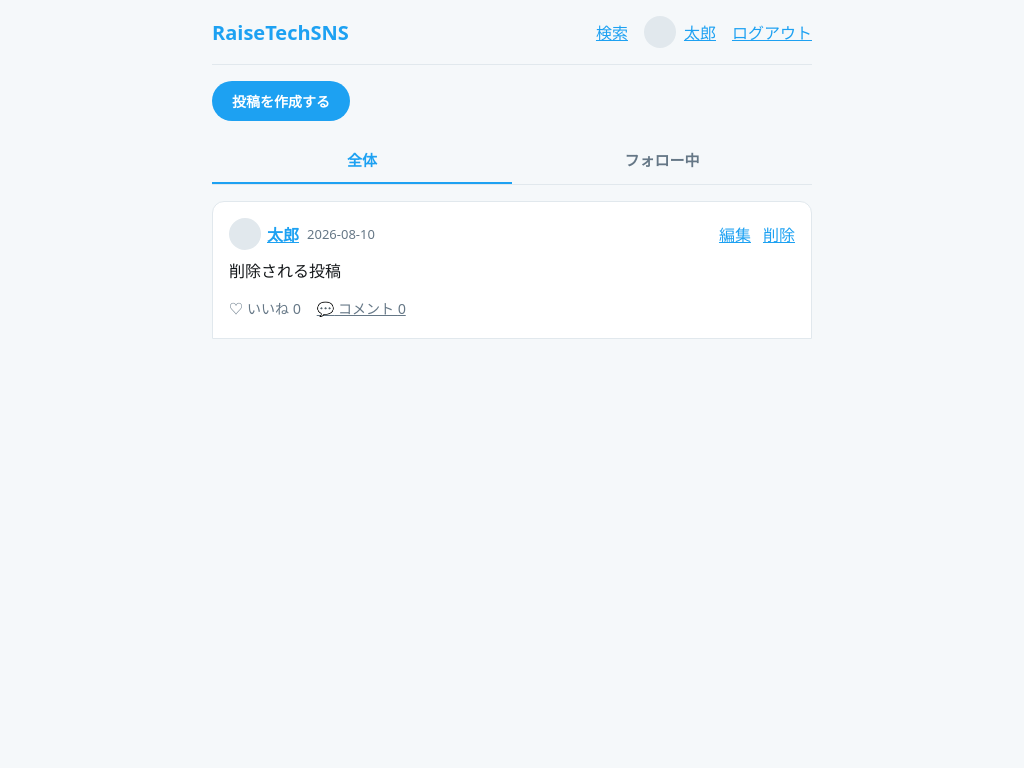
Test: TimelineScreen › 「削除」でモーダルが開き確認すると一覧から消えモーダルが閉じる
This screenshot has width=1024, height=768.
Check: the text "削除される投稿" is shown, box [229,260,341,282]
Step 1. Click the button "削除" → click(779, 234), box [763,222,795,246]
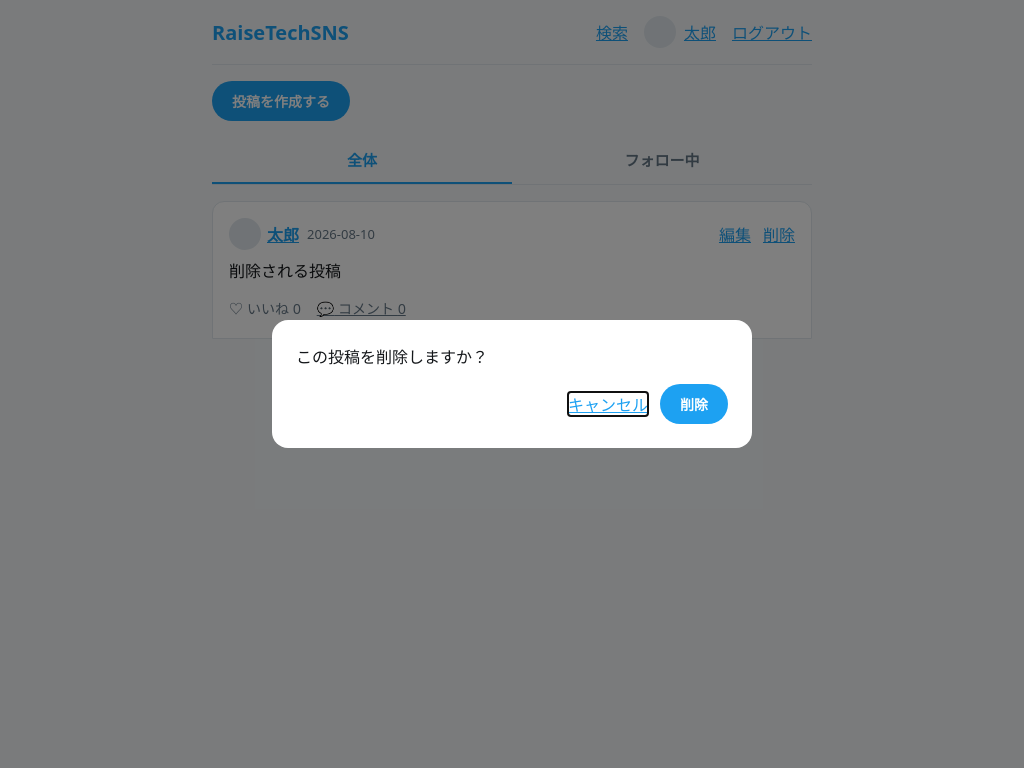
Check: the text "この投稿を削除しますか？" is shown, box [296,346,488,368]
Step 2. Click the button "削除" → click(694, 404), box [660,384,728,424]
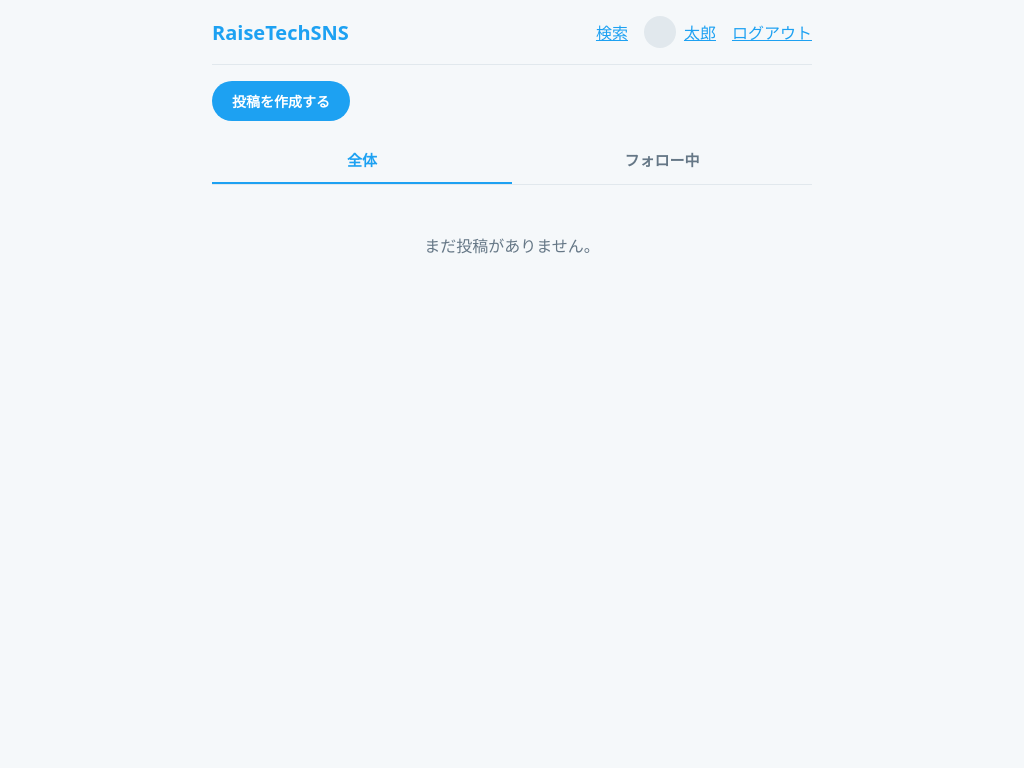
Check: the text "まだ投稿がありません。" is shown, box [424,235,600,257]
Check: the dialog is gone
